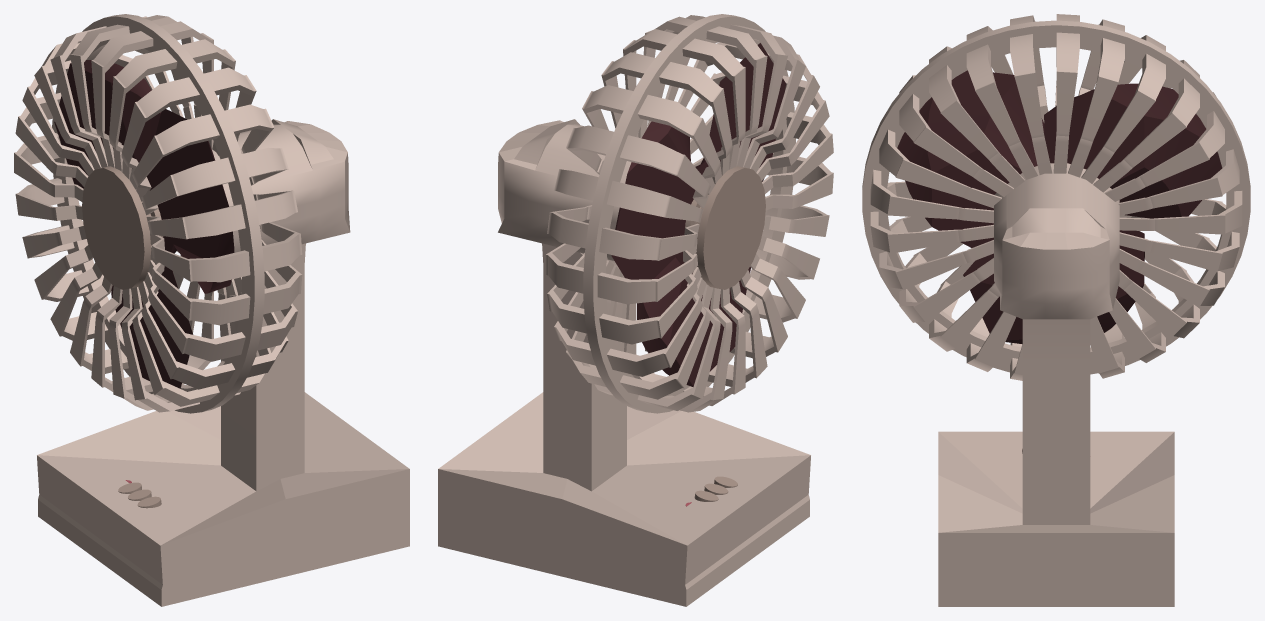
Rendered from efan 1mesh.fbx.
3 views of the same model, side by side, from view 1: azimuth 30°, elevation 25°; view 2: azimuth 150°, elevation 25°; view 3: azimuth 270°, elevation 25° (orthographic). The views are drawn at different scales.
Parts seen in each view (by area): view 1: Electric_Fan; view 2: Electric_Fan; view 3: Electric_Fan.
Boxes of the visible parts, x1,y1,x2,y2 form: Electric_Fan: (14, 14, 409, 606); Electric_Fan: (438, 14, 833, 606); Electric_Fan: (862, 14, 1250, 606).
Bounding box in the file's own units: 0.0444 × 0.0881 × 0.0625.
